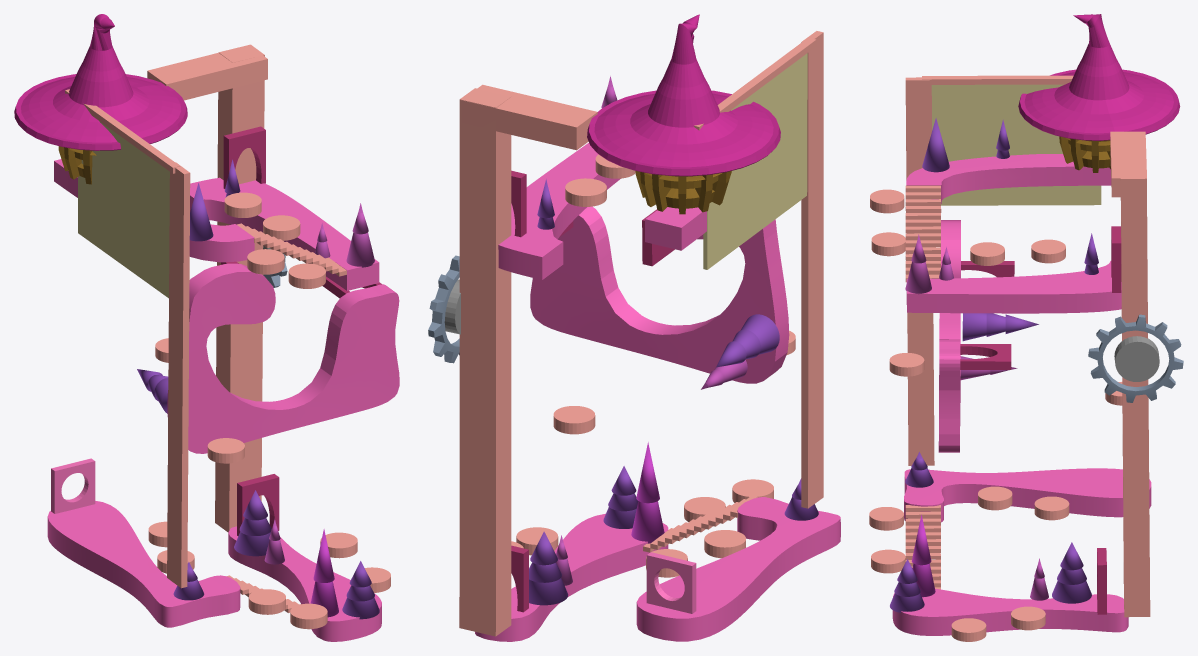
The picture shows the model from 3 angles, left to right: view 1: azimuth 30°, elevation 25°; view 2: azimuth 150°, elevation 25°; view 3: azimuth 270°, elevation 25°; orthographic projection. The views are drawn at different scales.
Parts seen in each view (by area): view 1: 物件_333.002, 锥体.004, 柱体.143, 柱体.144, 柱体.291, 柱体.298, 柱体.296, 柱体.290, 柱体.299, 柱体.293; view 2: 物件_333.002, 锥体.004, gear12_gears_0.001, 柱体.297, 柱体.298, 柱体.294, 柱体.290, 柱体.292, 柱体.291, 柱体.142, 柱体.299; view 3: 物件_333.002, 锥体.004, gear12_gears_0.001, 柱体.142, 柱体.295, 柱体.292, 柱体.296, 柱体.144, 柱体.293, 柱体.294, 柱体.298, 柱体.143 (+3 smaller).
Boxes of the visible parts, x1,y1,x2,y2 form: 物件_333.002: (14, 14, 381, 641); 锥体.004: (137, 261, 399, 453); 柱体.143: (247, 249, 284, 274); 柱体.144: (288, 263, 325, 288); 柱体.291: (290, 603, 327, 629); 柱体.298: (224, 192, 261, 217); 柱体.296: (207, 438, 244, 463); 柱体.290: (248, 589, 285, 614); 柱体.299: (263, 215, 300, 240); 柱体.293: (320, 532, 357, 558); 物件_333.002: (459, 14, 840, 641); 锥体.004: (530, 206, 789, 389); gear12_gears_0.001: (428, 255, 459, 363); 柱体.297: (553, 406, 595, 434); 柱体.298: (565, 178, 606, 206); 柱体.294: (704, 530, 745, 558); 柱体.290: (732, 479, 773, 502); 柱体.292: (516, 527, 558, 555); 柱体.291: (684, 497, 725, 521); 柱体.142: (444, 279, 460, 334); 柱体.299: (595, 154, 635, 178); 物件_333.002: (890, 14, 1180, 635); 锥体.004: (938, 220, 1038, 452); gear12_gears_0.001: (1088, 314, 1183, 402); 柱体.142: (1114, 336, 1159, 381); 柱体.295: (1034, 496, 1069, 520); 柱体.292: (951, 618, 986, 641); 柱体.296: (889, 353, 924, 376); 柱体.144: (871, 232, 905, 256); 柱体.293: (1011, 606, 1045, 630); 柱体.294: (978, 486, 1012, 510); 柱体.298: (1031, 239, 1065, 263); 柱体.143: (870, 189, 904, 213).
Size of the model in its own units: 2843 by 5367 by 2840.
